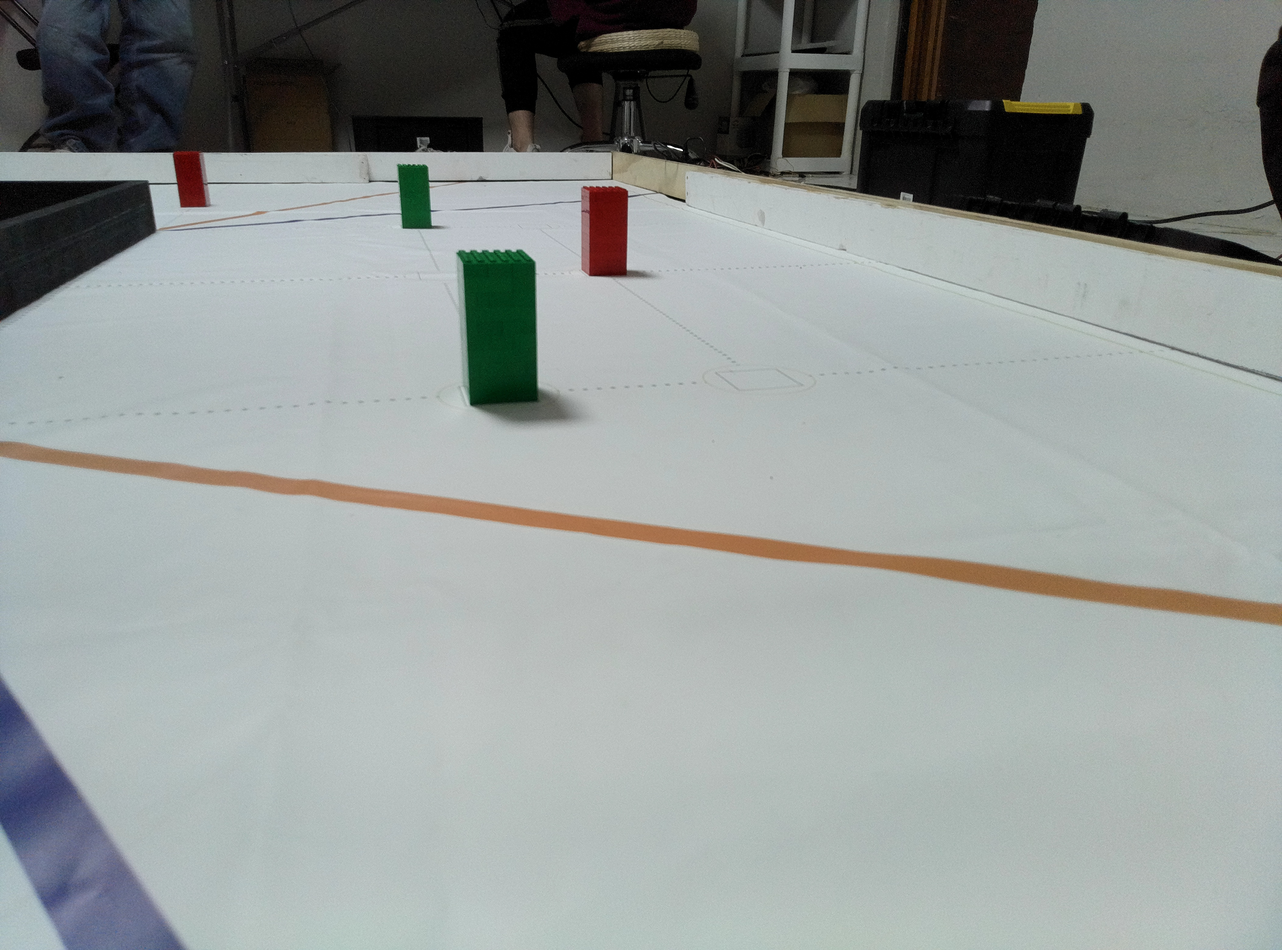greenbox: (459, 248, 541, 402), (399, 168, 431, 229)
redbox: (580, 184, 630, 276), (176, 149, 209, 207)
